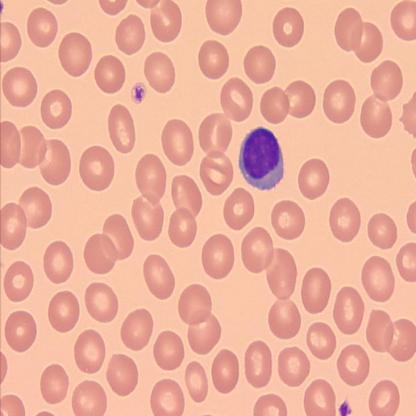Lymphocyte: (238, 125, 284, 192)
